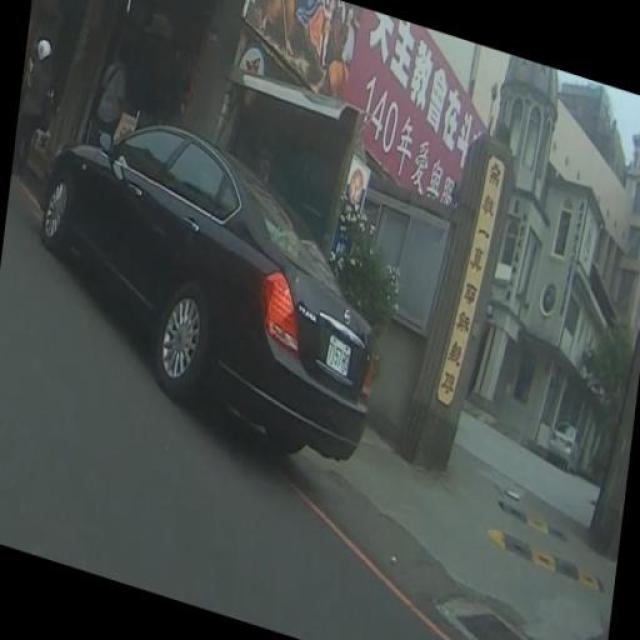Legalparking: (16, 110, 453, 462)
